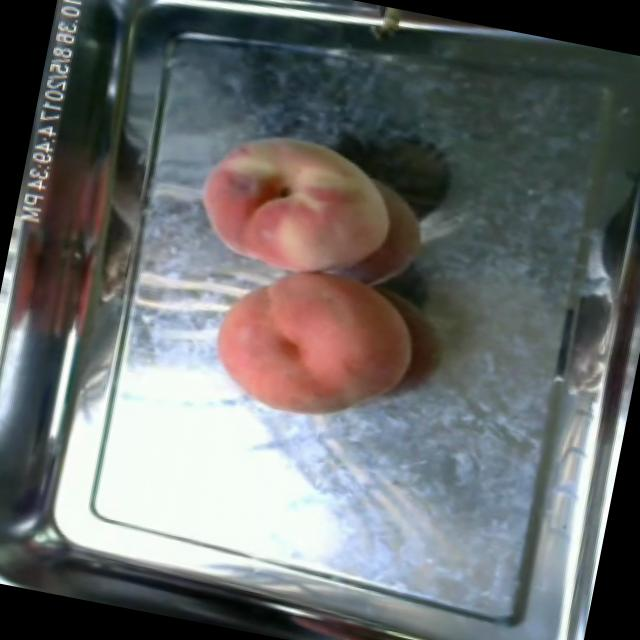Fruit: (191, 248, 435, 445), (178, 113, 411, 300)
